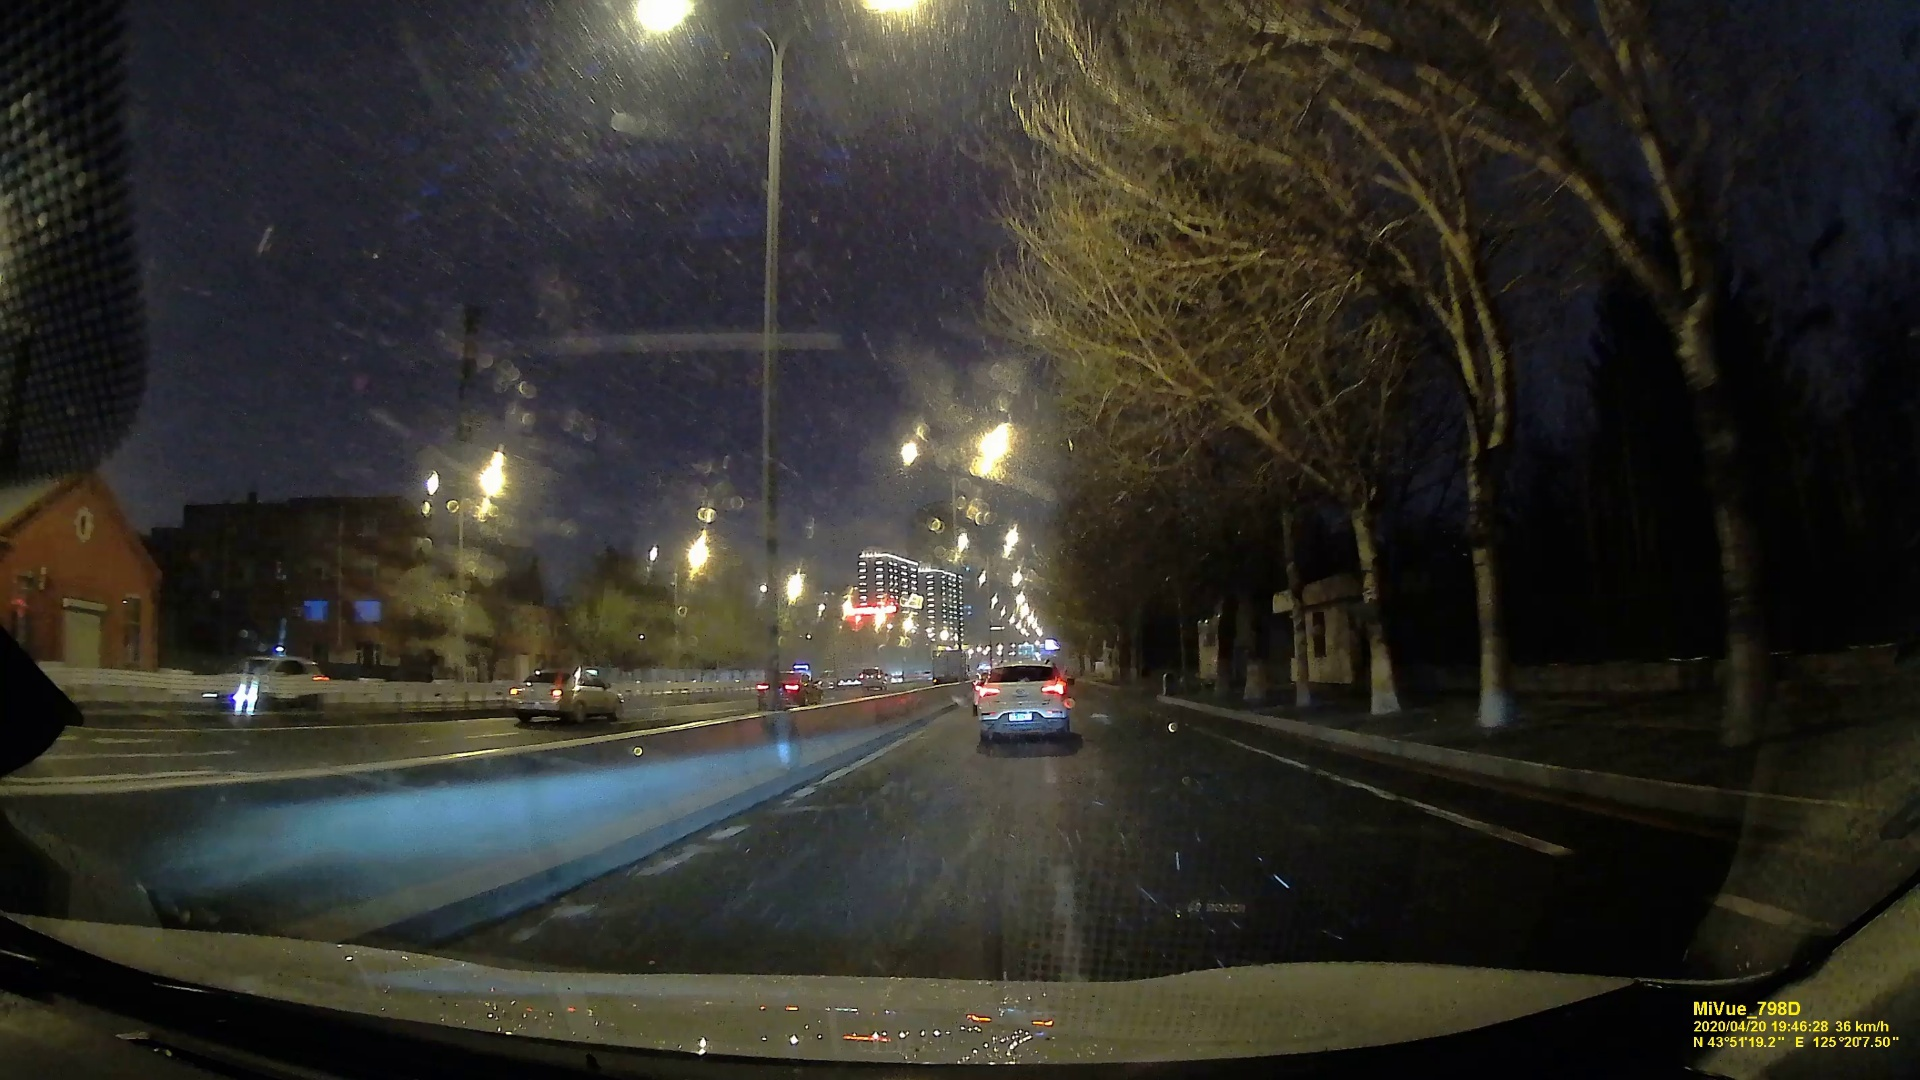truck: (928, 647, 967, 686)
vehicle: (976, 659, 1072, 742), (212, 651, 327, 713), (506, 663, 621, 724), (758, 671, 825, 709), (857, 669, 886, 686)
